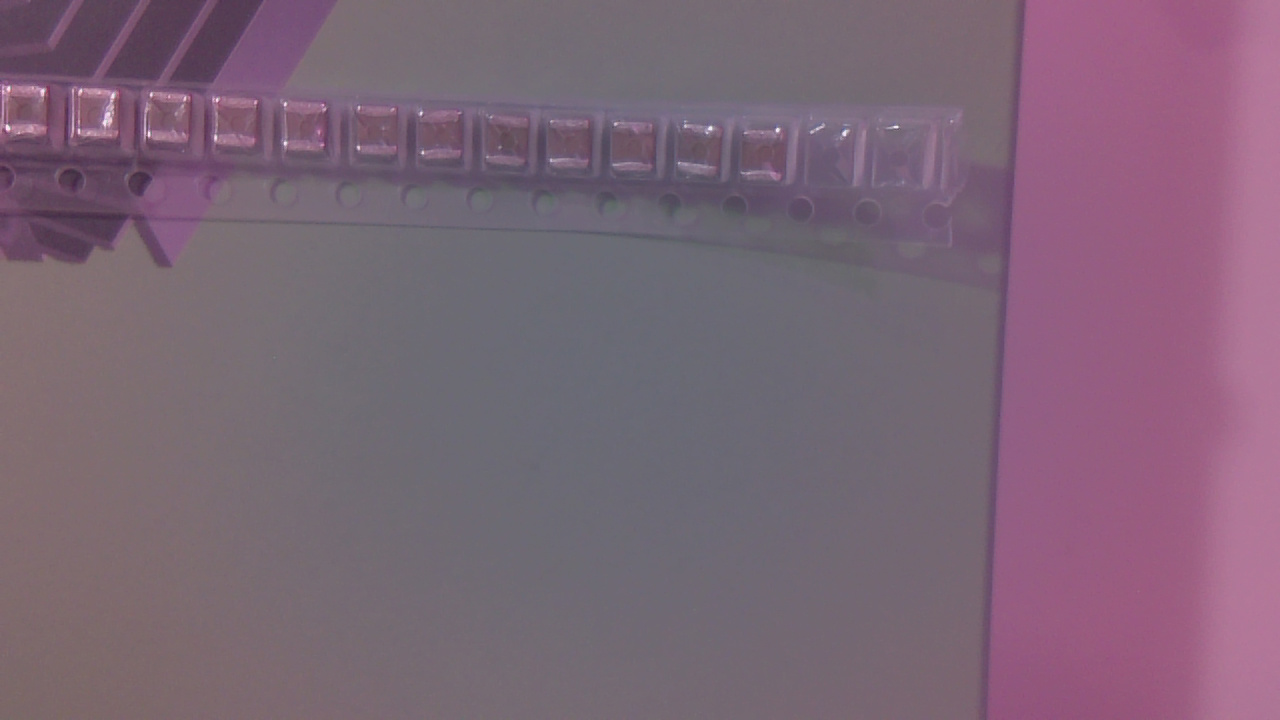Condensator: (612, 123, 665, 181), (485, 117, 535, 178), (284, 103, 336, 161), (424, 109, 470, 170), (742, 132, 792, 188), (76, 91, 124, 149), (150, 94, 197, 153), (217, 99, 265, 156), (9, 88, 57, 144), (358, 109, 405, 164), (682, 127, 726, 183), (553, 122, 597, 175)
